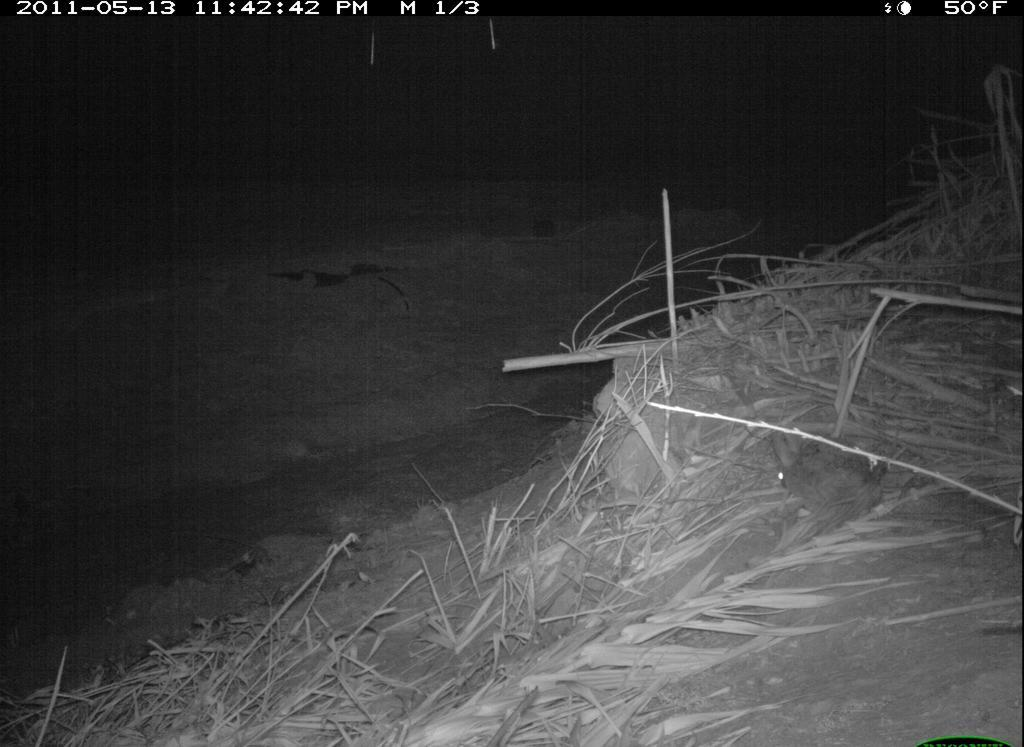rabbit: (763, 428, 895, 532)
